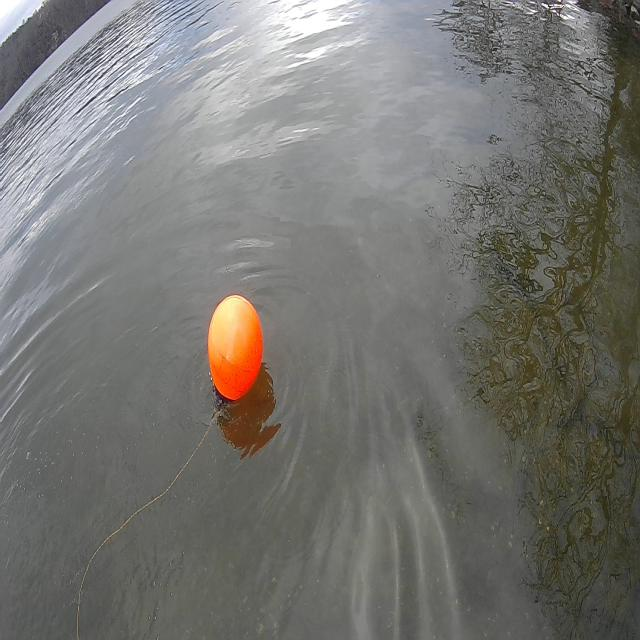Buoy: (204, 281, 266, 414)
